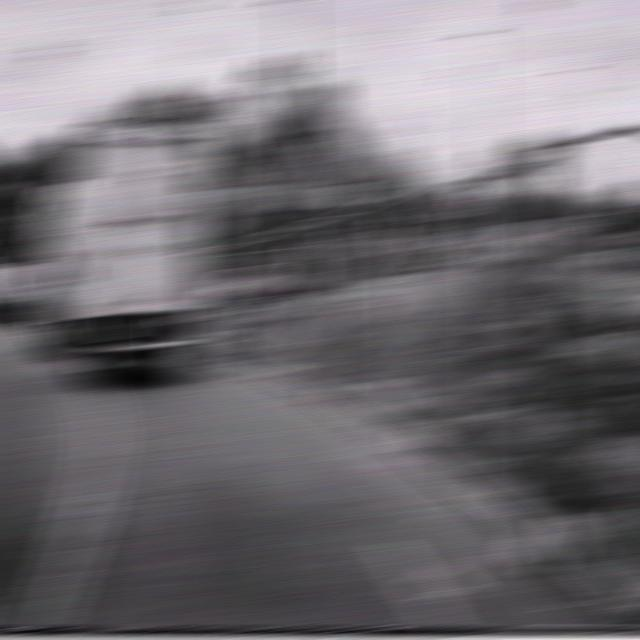stop_sign: (202, 212, 238, 242)
